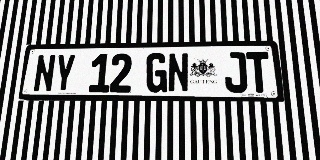1: (89, 54, 111, 92)
2: (110, 53, 132, 92)
G: (146, 53, 167, 92)
J: (224, 52, 248, 93)
N: (33, 54, 56, 92), (168, 53, 189, 92)
T: (246, 52, 271, 93)
Y: (53, 54, 76, 92)
